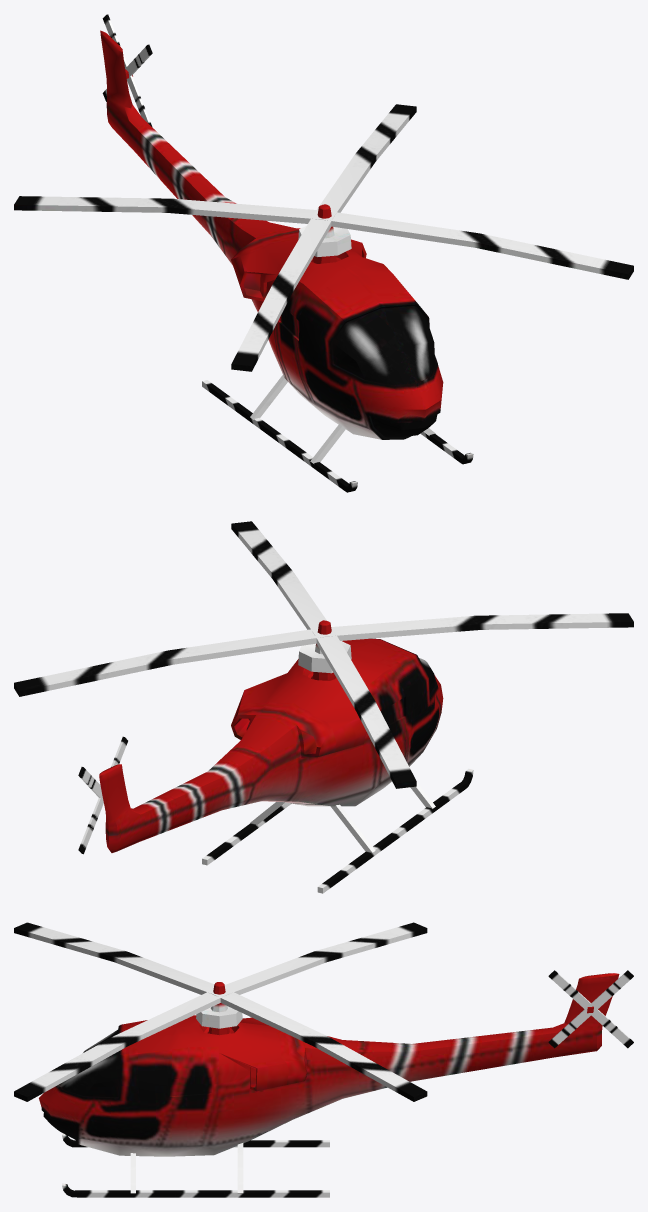
The model's file is helicopter.fbx.
3 renders of one model, top to bottom at view 1: azimuth 30°, elevation 25°; view 2: azimuth 150°, elevation 25°; view 3: azimuth 270°, elevation 25°, orthographic. The views are drawn at different scales.
Parts seen in each view (by area): view 1: helicoptor; view 2: helicoptor; view 3: helicoptor.
Part boxes in pixels (bbox=[...]): helicoptor: bbox=[14, 14, 633, 492]; helicoptor: bbox=[14, 521, 633, 893]; helicoptor: bbox=[14, 922, 633, 1197].
Size of the model in its own units: 6.53 by 3.59 by 9.79.
